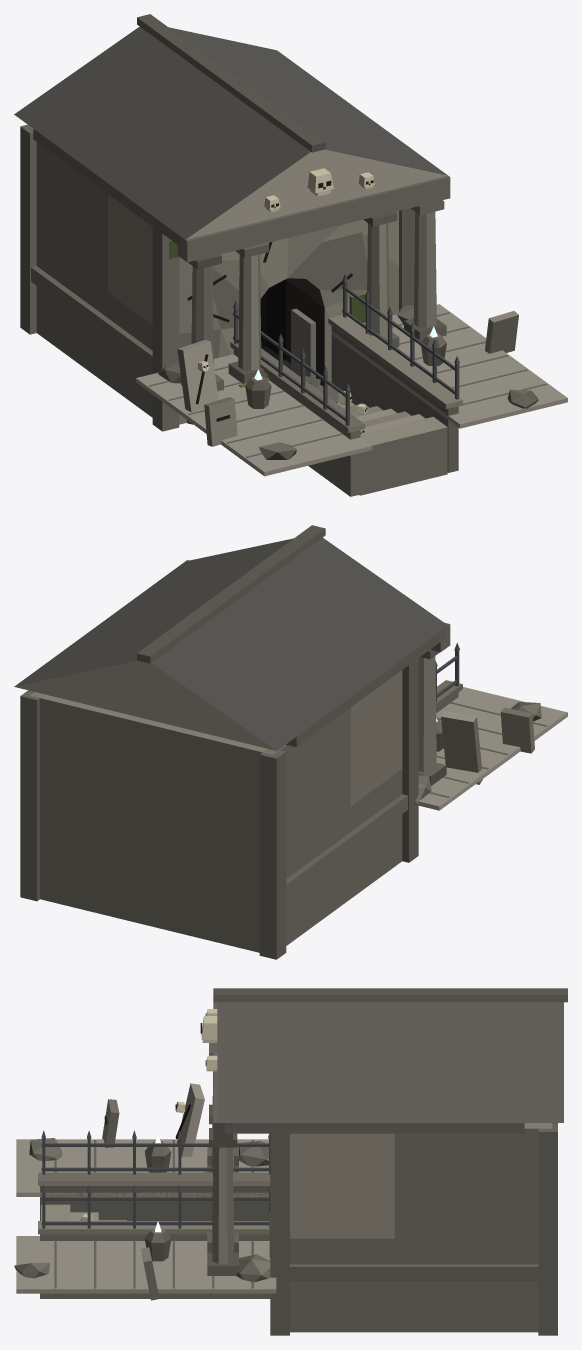
Rendered from skeleton_crypt.glb.
The picture shows the model from 3 angles, top to bottom: view 1: azimuth 30°, elevation 25°; view 2: azimuth 150°, elevation 25°; view 3: azimuth 270°, elevation 25°; orthographic projection.
Parts seen in each view (by area): view 1: skeleton_crypt; view 2: skeleton_crypt; view 3: skeleton_crypt.
Part boxes in pixels (<box>): skeleton_crypt: <box>14,14,567,496</box>; skeleton_crypt: <box>14,525,567,959</box>; skeleton_crypt: <box>14,988,567,1335</box>.
Size of the model in its own units: 9.73 by 7.9 by 14.06.
